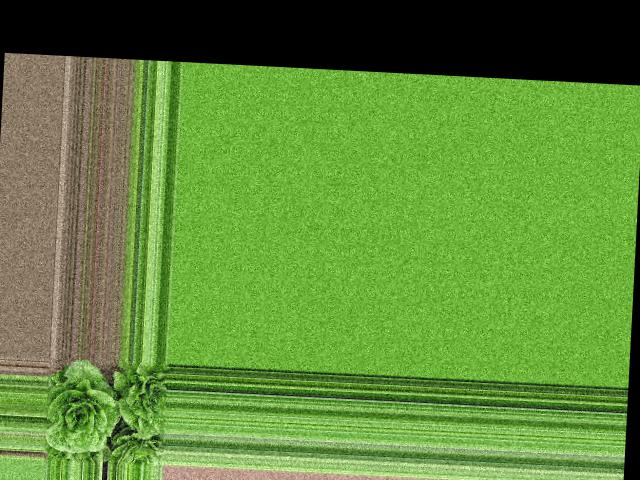lettuce: (117, 363, 169, 440)
